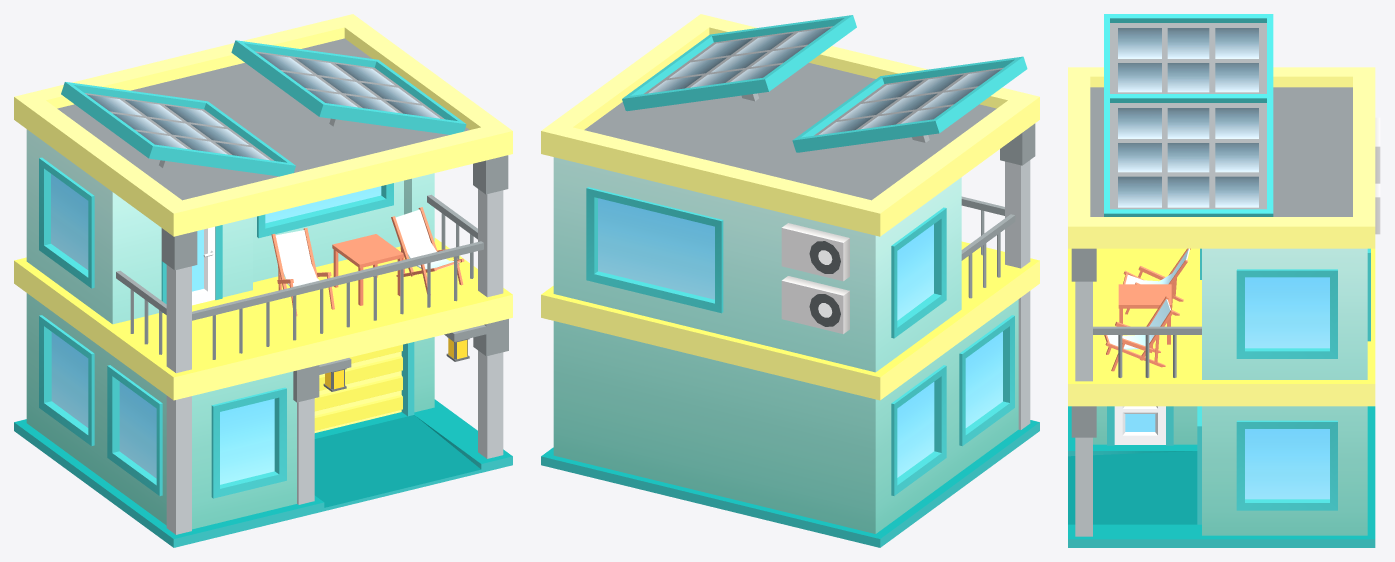
The model's file is city2-building-living-18.glb.
3 renders of one model, left to right at view 1: azimuth 30°, elevation 25°; view 2: azimuth 150°, elevation 25°; view 3: azimuth 270°, elevation 25°, orthographic. The views are drawn at different scales.
Parts seen in each view (by area): view 1: Building_Living_18; view 2: Building_Living_18; view 3: Building_Living_18.
Boxes of the visible parts, x1,y1,x2,y2 form: Building_Living_18: (14, 14, 512, 547); Building_Living_18: (541, 14, 1039, 547); Building_Living_18: (1068, 14, 1380, 547).
Size of the model in its own units: 8.18 by 8.79 by 6.67.
Materials: 1 (1 with a texture image).
